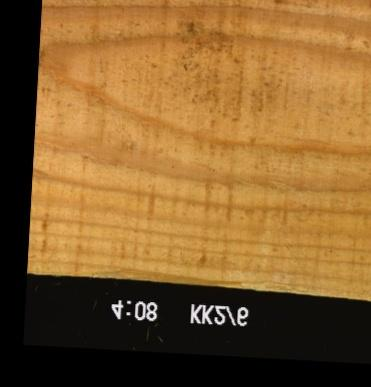wave: (54, 273, 266, 285)
